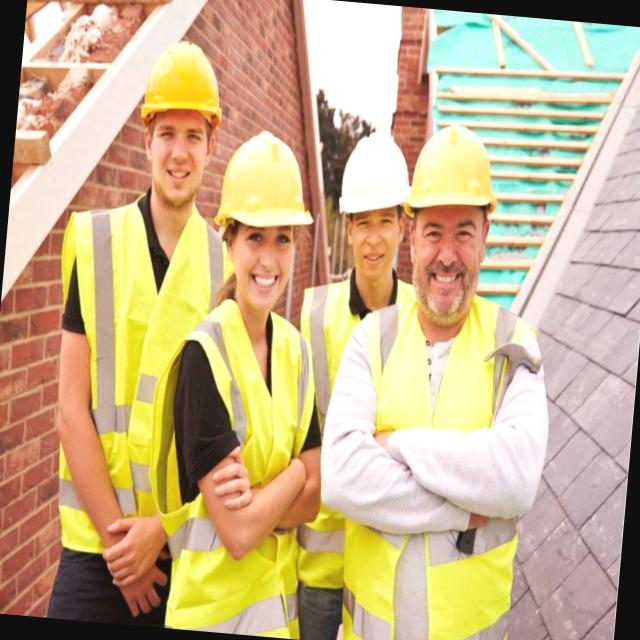helmet: (209, 124, 321, 246), (402, 116, 503, 230), (134, 33, 235, 138), (334, 119, 410, 226)
no-goggles: (207, 210, 316, 274), (398, 200, 500, 266), (132, 115, 218, 169), (332, 201, 406, 255)
vest: (339, 307, 538, 640), (45, 194, 202, 524), (170, 308, 326, 640)
